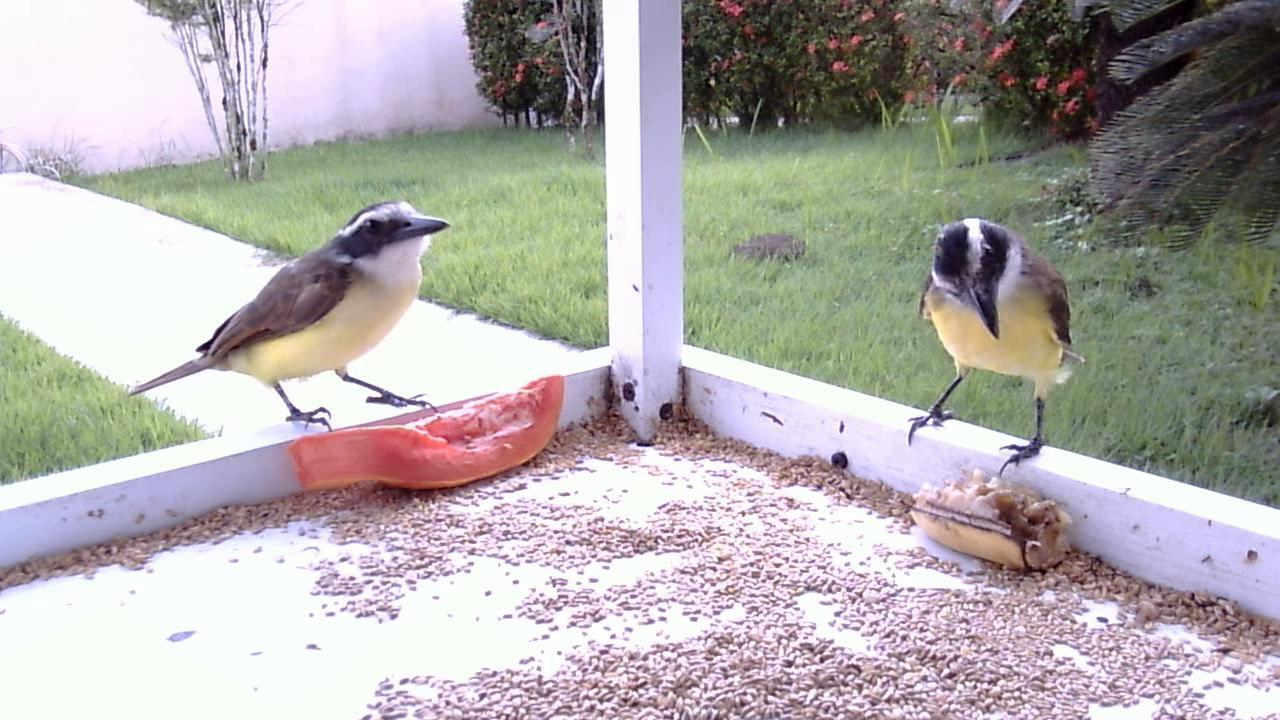bem_te_vi: (117, 192, 461, 445), (897, 208, 1092, 485)
